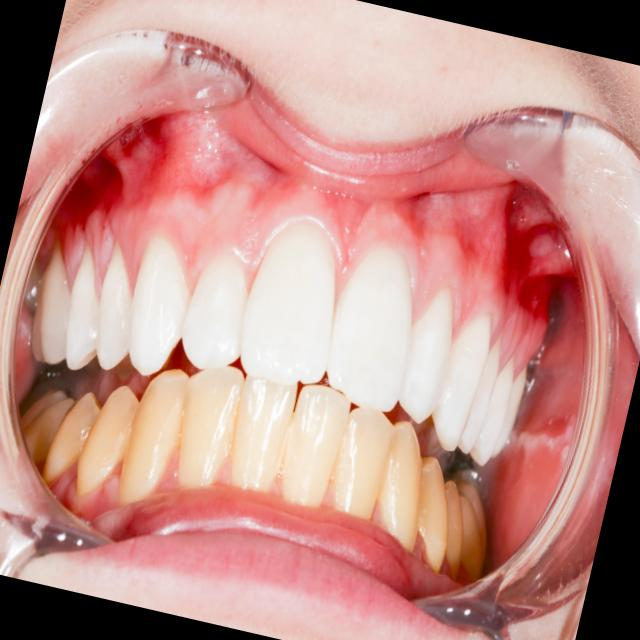Caries: (196, 415, 196, 416)
Tooth: (240, 222, 336, 386), (326, 246, 412, 412), (118, 369, 189, 505), (127, 237, 191, 376), (282, 384, 351, 507), (430, 313, 491, 451), (178, 365, 244, 487), (231, 374, 298, 492), (181, 255, 248, 370), (398, 286, 453, 424), (330, 407, 394, 521), (75, 385, 139, 497), (376, 420, 422, 552), (42, 391, 102, 485), (457, 331, 502, 454), (468, 355, 513, 467), (96, 240, 133, 370), (31, 242, 70, 365), (65, 246, 99, 371), (417, 455, 448, 574)
